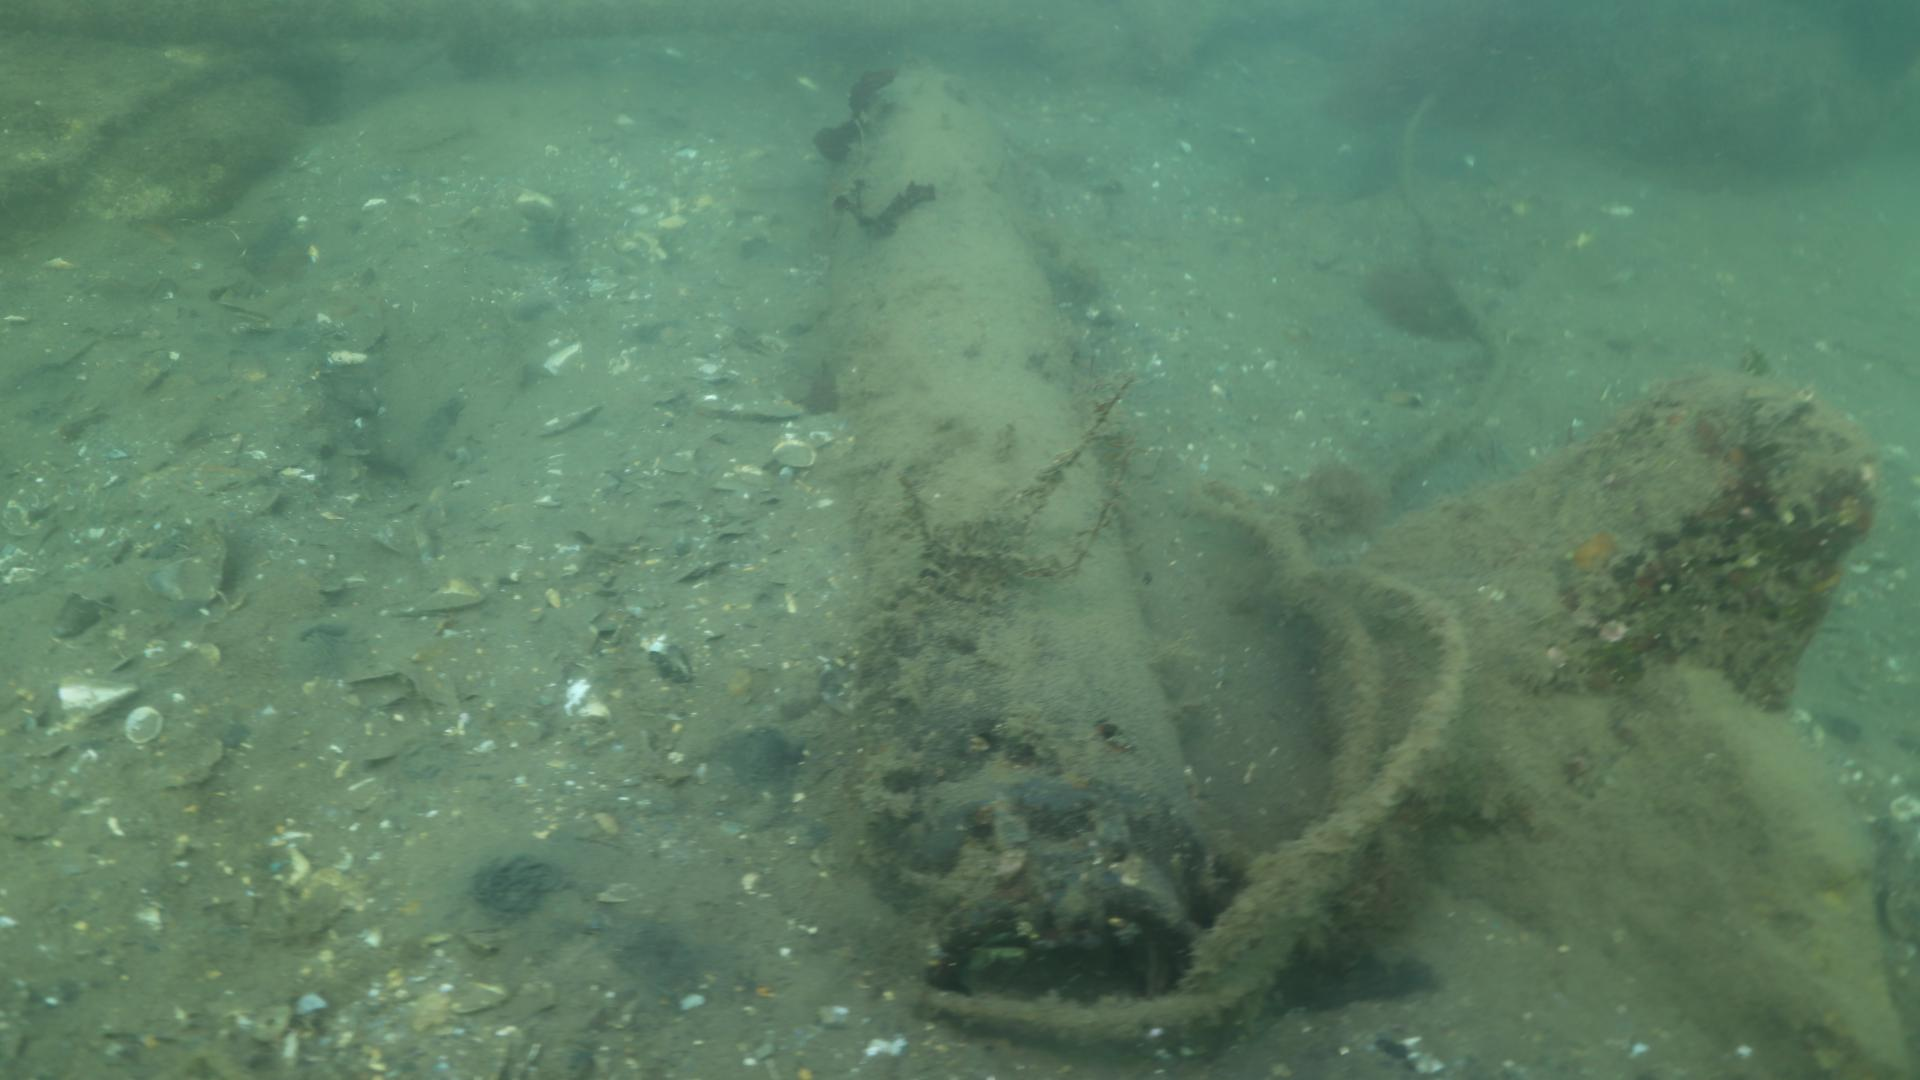bundle of ropes: (910, 496, 1461, 1039)
eel fish trap: (835, 73, 1215, 996)
